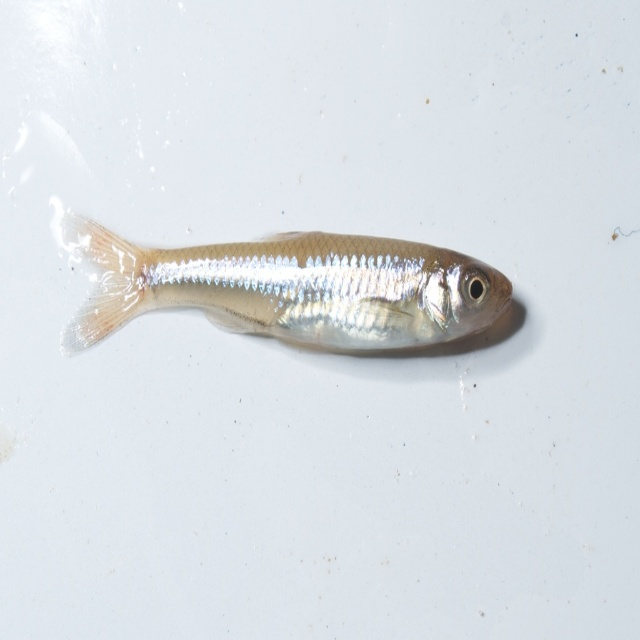Fish: (64, 189, 518, 368)
